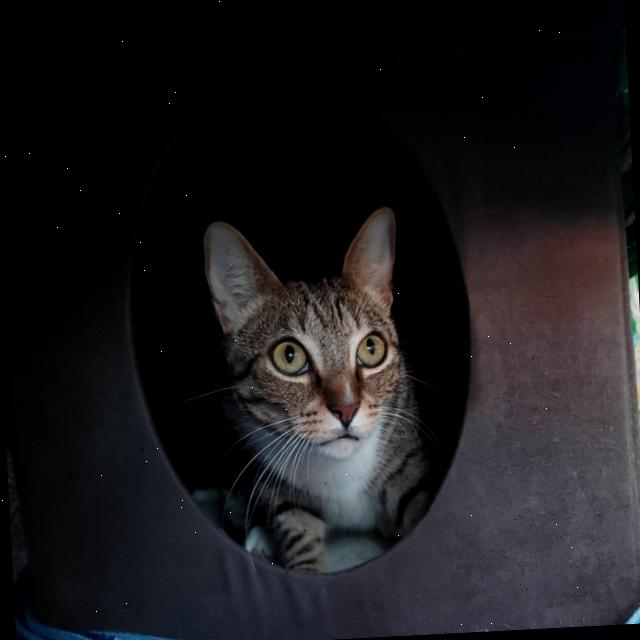american_shorthair_cat: (197, 200, 424, 490)
